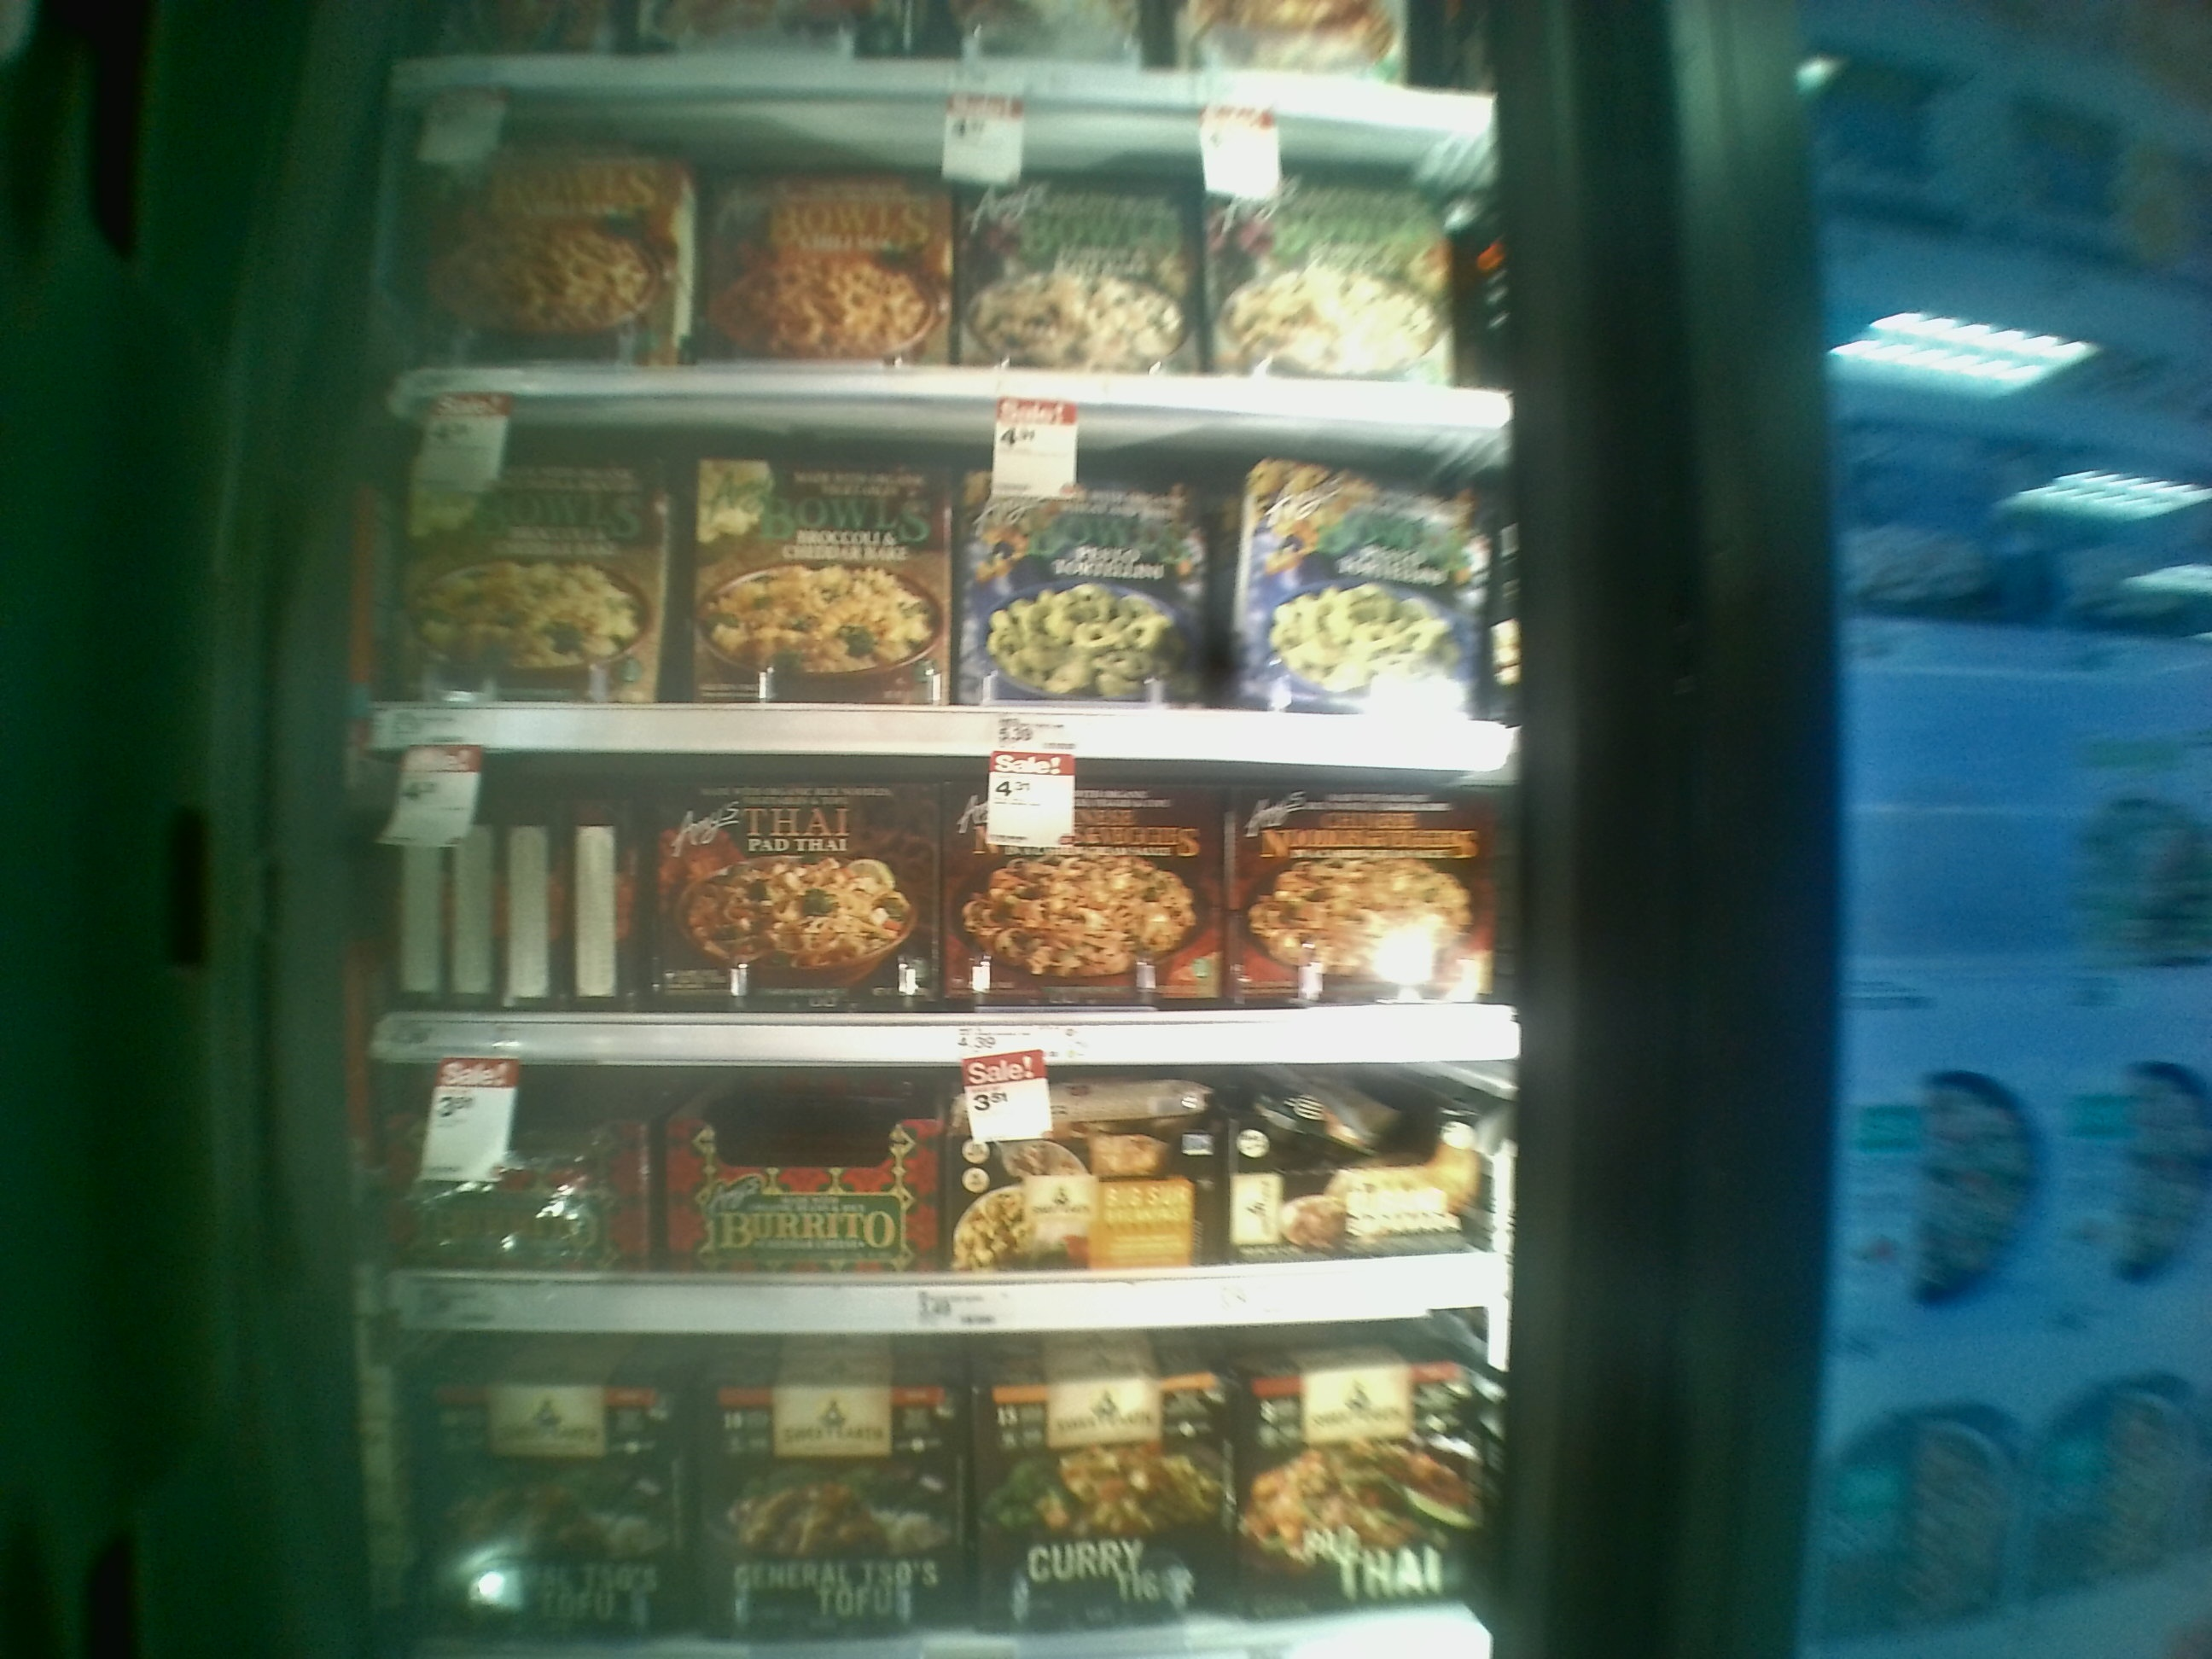frozen-food-shelf: (343, 416, 1561, 769), (341, 769, 1578, 1070), (355, 117, 1501, 425), (336, 1070, 1588, 1338)
